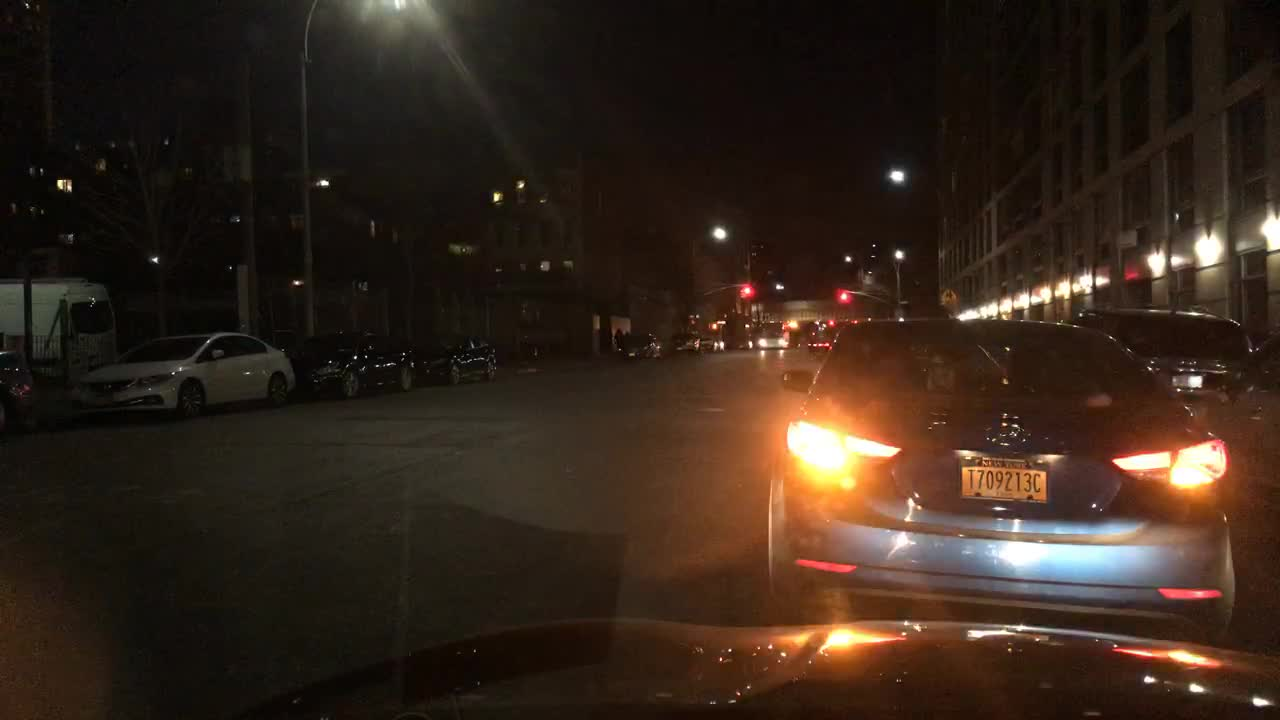bus: (1, 282, 111, 370)
car: (766, 317, 1230, 643), (76, 331, 290, 416), (1070, 306, 1251, 395), (1193, 329, 1279, 498), (296, 326, 413, 396), (415, 326, 501, 383), (2, 352, 51, 436), (617, 328, 659, 361), (754, 318, 795, 346), (807, 334, 836, 356), (672, 331, 694, 355), (696, 333, 727, 348)
traffic light: (735, 280, 752, 302), (835, 284, 852, 305)
